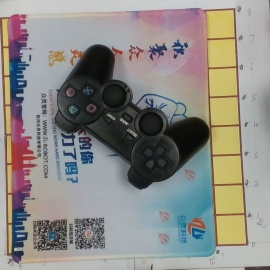remote: (56, 44, 209, 189)
